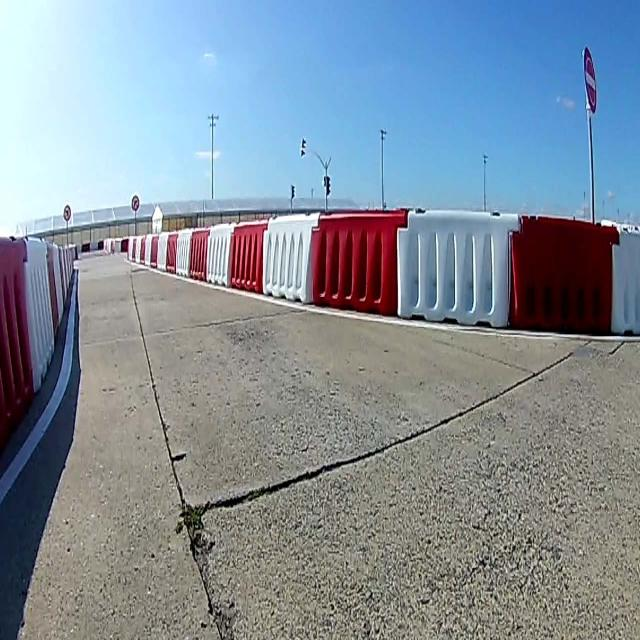girisyok: (579, 44, 599, 116)
